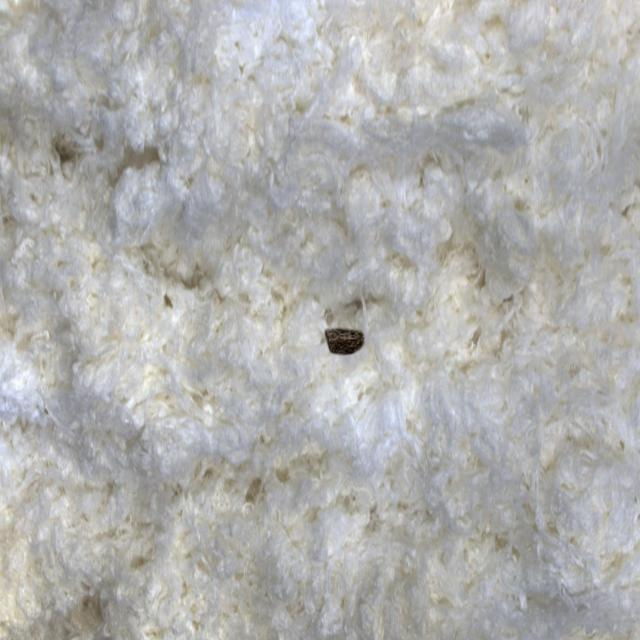dust: (295, 262, 400, 407)
